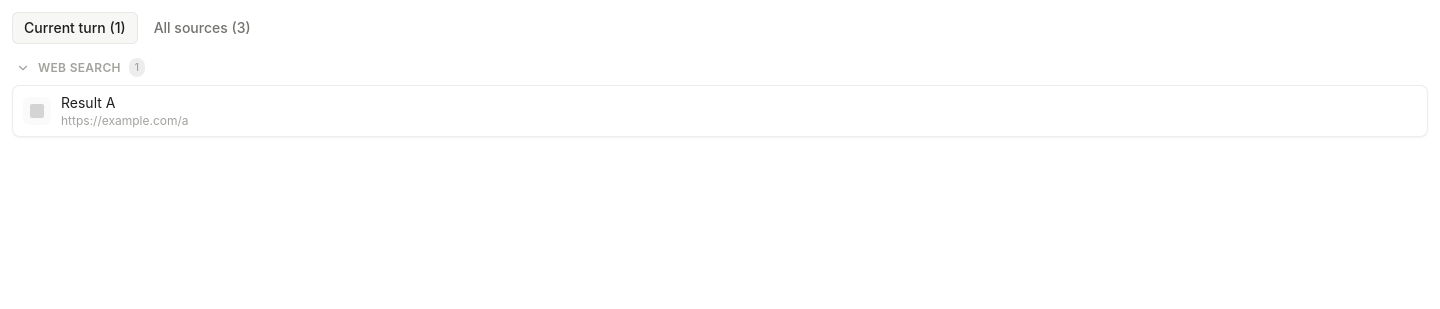
Scenario: SourcesPanel › offers a turn/thread switch and shows aggregated sources on "All sources"
Expected: the button "Current turn (1)" is shown, [12, 12, 138, 44]
Expected: the text "Result A" is shown, [61, 94, 115, 111]
// Switching to thread scope reveals the other turns' sources.
Click the button "All sources (3)": (202,28) [142, 12, 263, 44]
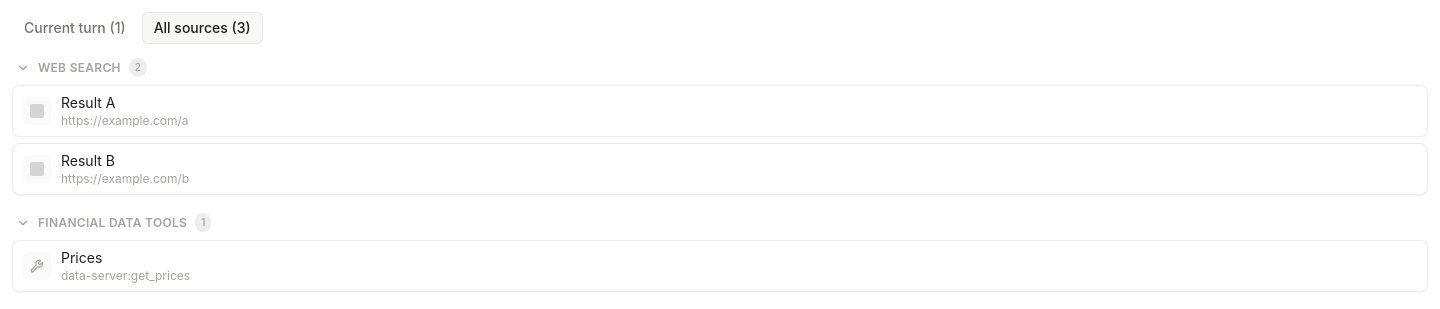
Expected: the text "Result A" is shown, [61, 94, 115, 111]
Expected: the text "Result B" is shown, [61, 152, 115, 169]
Expected: the text "Prices" is shown, [61, 249, 102, 266]
